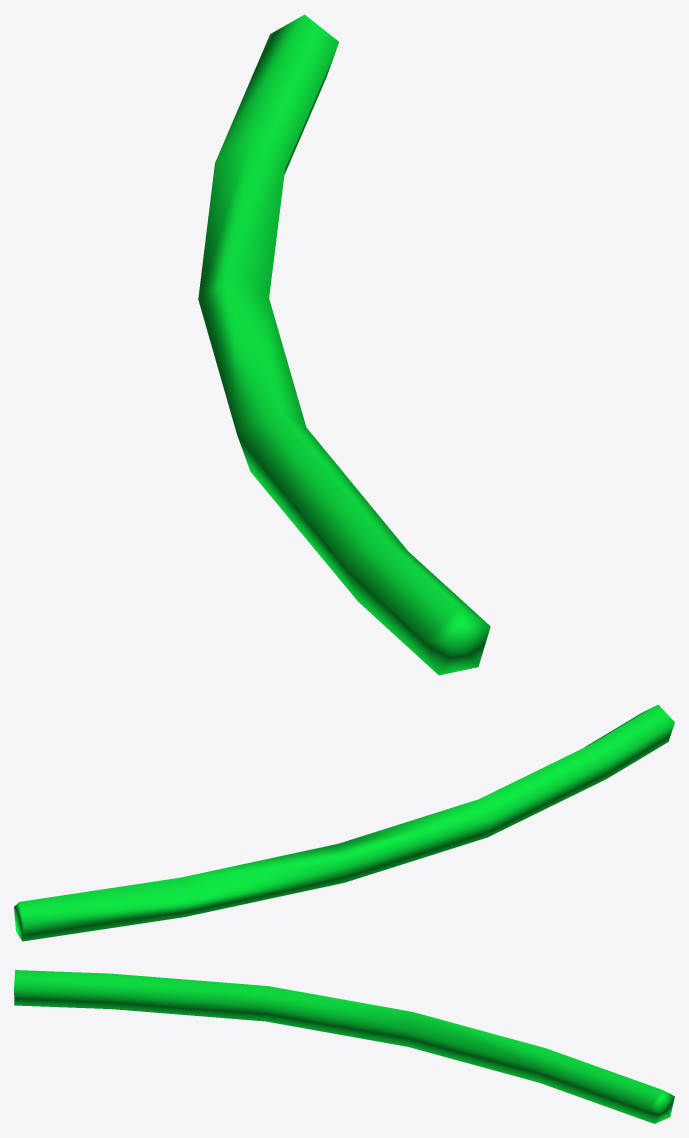
File: Pipe_Turn_45_A_Ext.fbx
3 renders of one model, top to bottom at view 1: azimuth 30°, elevation 25°; view 2: azimuth 150°, elevation 25°; view 3: azimuth 270°, elevation 25°, orthographic. The views are drawn at different scales.
Visible parts, largest first — view 1: Pipe_Turn_45_A_Ext; view 2: Pipe_Turn_45_A_Ext; view 3: Pipe_Turn_45_A_Ext.
Boxes of the visible parts, x1=… form: Pipe_Turn_45_A_Ext: x1=198, y1=14, x2=490, y2=675; Pipe_Turn_45_A_Ext: x1=14, y1=704, x2=674, y2=941; Pipe_Turn_45_A_Ext: x1=14, y1=970, x2=674, y2=1123.
Size of the model in its own units: 1.88 by 0.2064 by 3.94.
